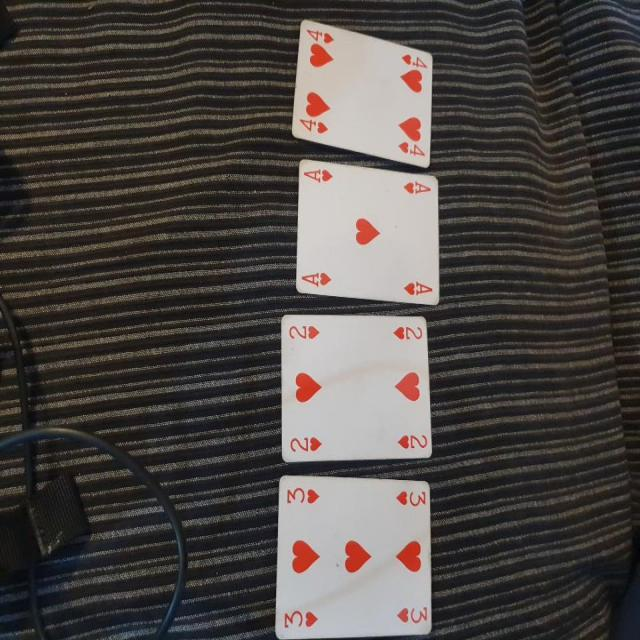2 Hearts: (268, 311, 441, 469)
3 Hearts: (274, 475, 443, 638)
4 Hearts: (291, 10, 438, 170)
A Hearts: (288, 160, 445, 311)
